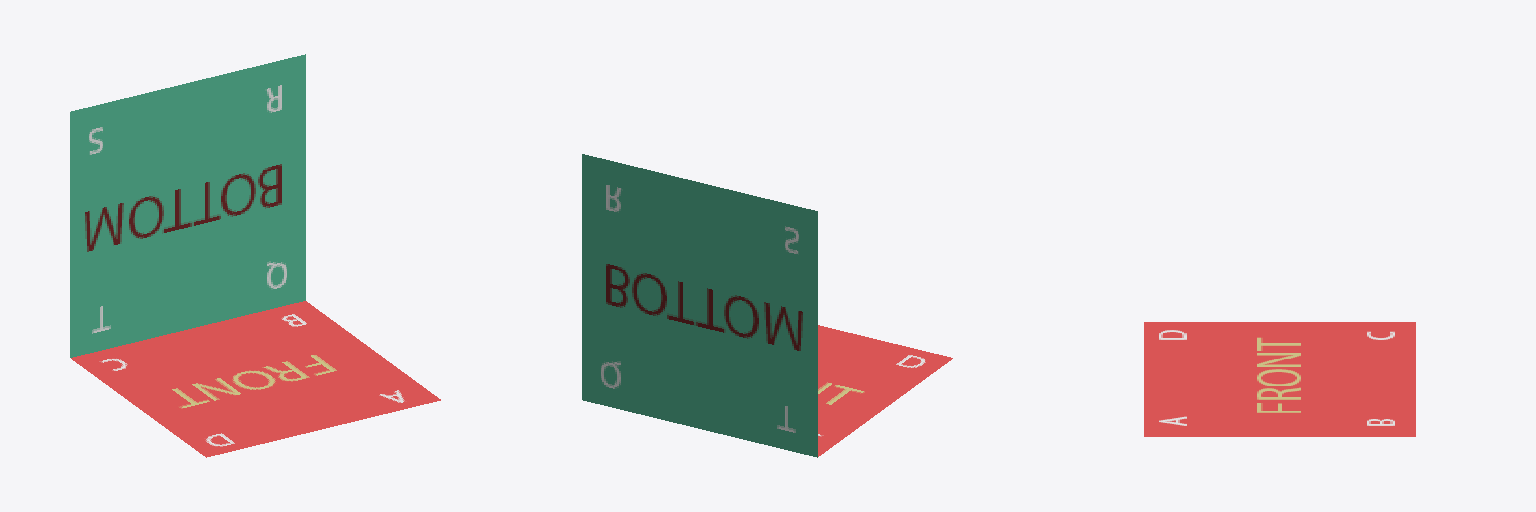
The picture shows the model from 3 angles: view 1: azimuth 30°, elevation 25°; view 2: azimuth 150°, elevation 25°; view 3: azimuth 270°, elevation 25°; orthographic projection.
Parts seen in each view (by area): view 1: cube; view 2: cube; view 3: cube.
Boxes of the visible parts, <box> form: cube: <box>70,54,440,457</box>; cube: <box>582,154,952,457</box>; cube: <box>1144,322,1415,436</box>.
Size of the model in its own units: 1 by 1 by 1.
Materials: 1 (1 with a texture image).